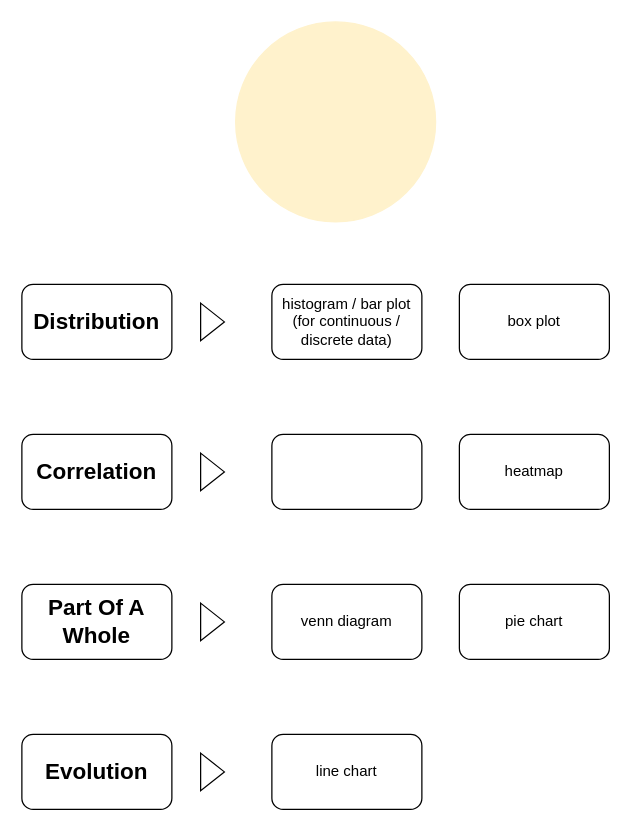
The diagram is 631 pixels wide and 831 high, and some of its shapes have lost their labels. Here are the shapes that lost their labels. From the top down, the centre of each, then its label:
the point at 335,121: EDA
the point at 346,471: scatter plot
